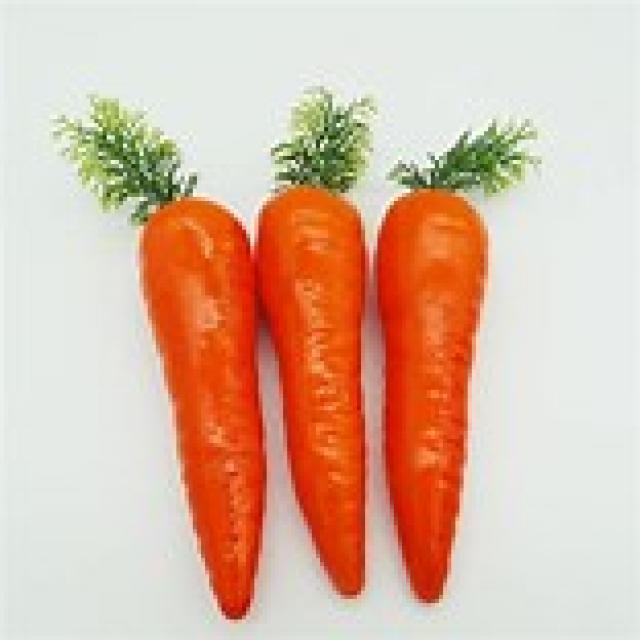Carrot: (120, 194, 272, 626), (379, 120, 490, 608), (270, 175, 382, 598)
